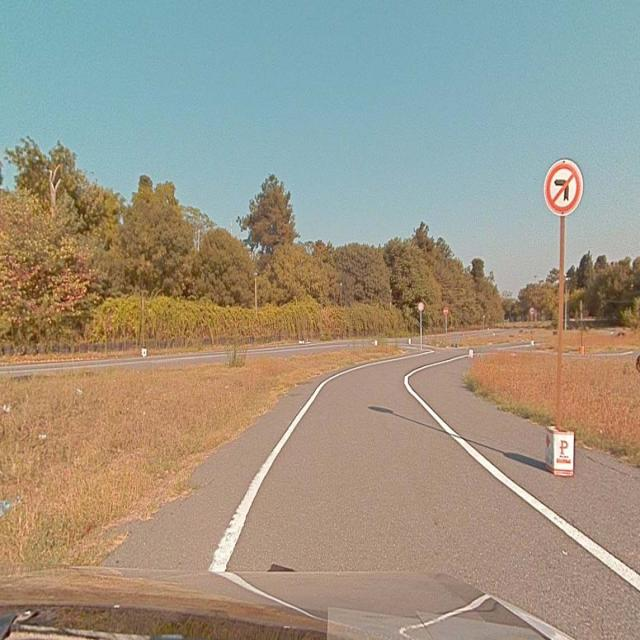soladonulmez: (545, 160, 583, 213)
